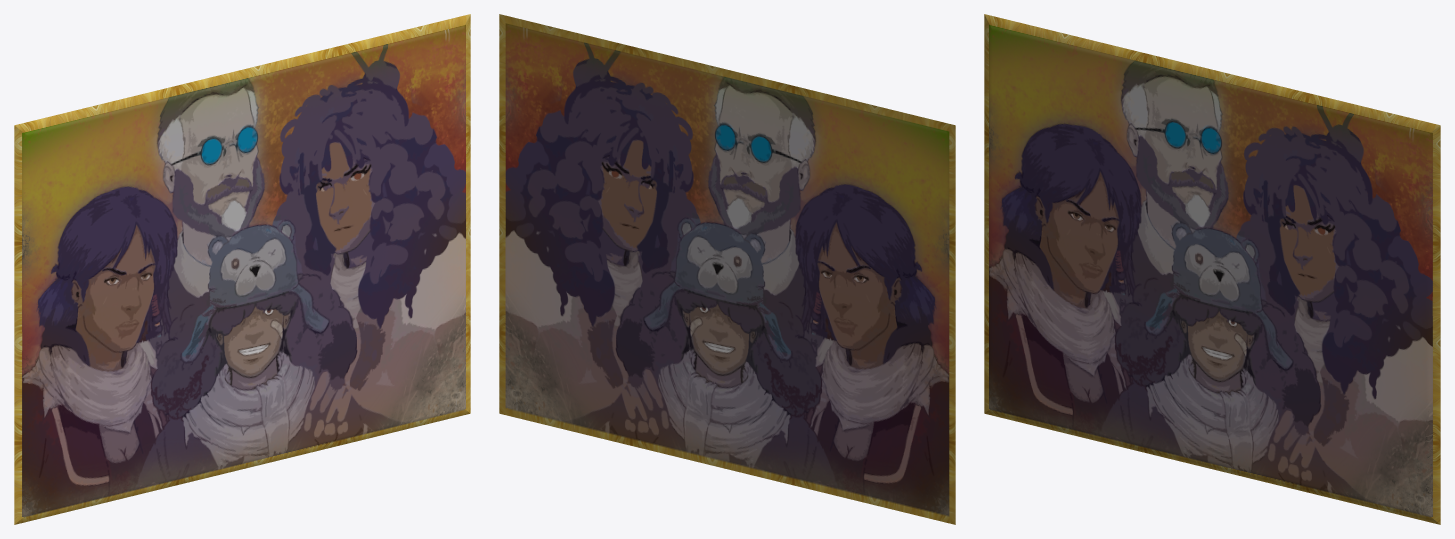
File: Paint_Quad_Family.fbx
3 views of the same model, side by side, from view 1: azimuth 30°, elevation 25°; view 2: azimuth 150°, elevation 25°; view 3: azimuth 330°, elevation 25° (orthographic).
Parts seen in each view (by area): view 1: Paint_Quad_Family; view 2: Paint_Quad_Family; view 3: Paint_Quad_Family.
Boxes of the visible parts, left/top/right/bottom form: Paint_Quad_Family: left=14, top=14, right=470, bottom=524; Paint_Quad_Family: left=499, top=14, right=955, bottom=524; Paint_Quad_Family: left=984, top=14, right=1440, bottom=524.
Size of the model in its own units: 87.6 by 73.31 by 1.03.
